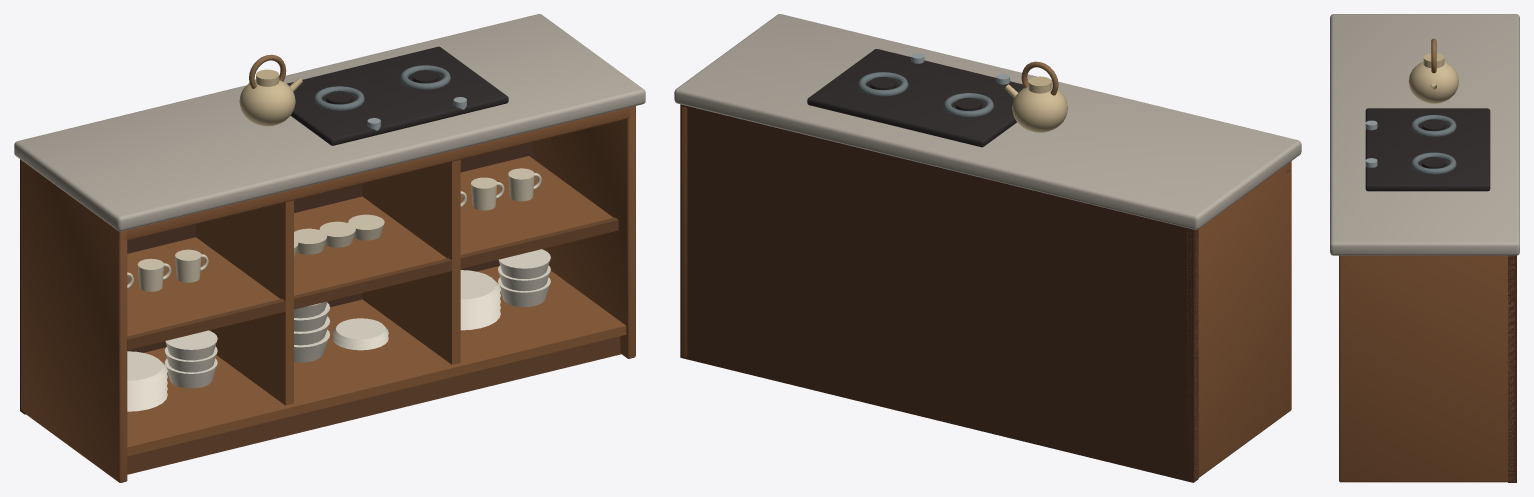
File: counter_stove.glb
3 views of the same model, side by side, from view 1: azimuth 30°, elevation 25°; view 2: azimuth 150°, elevation 25°; view 3: azimuth 270°, elevation 25° (orthographic). The views are drawn at different scales.
Visible parts, largest first — view 1: counter_stove_stone_top, counter_stove_side, counter_stove_bottom, counter_stove_side.001, counter_stove_divider.001, counter_stove_divider, counter_stove_hob, counter_stove_plinth, counter_stove_shelf, counter_stove_shelf.002, counter_stove_shelf.001, counter_stove_top_rail (+22 smaller); view 2: counter_stove_back, counter_stove_stone_top, counter_stove_side, counter_stove_hob, counter_stove_kettle, counter_stove_side.001, counter_stove_burner, counter_stove_burner.001; view 3: counter_stove_side.001, counter_stove_stone_top, counter_stove_hob, counter_stove_back, counter_stove_kettle, counter_stove_burner.001, counter_stove_burner, counter_stove_burner_cap.001, counter_stove_burner_cap, counter_stove_kettle_lid.
Part boxes in pixels (bbox=[...]): counter_stove_stone_top: bbox=[14, 14, 645, 231]; counter_stove_side: bbox=[21, 160, 127, 482]; counter_stove_bottom: bbox=[127, 266, 626, 456]; counter_stove_side.001: bbox=[533, 106, 635, 358]; counter_stove_divider.001: bbox=[362, 159, 460, 364]; counter_stove_divider: bbox=[196, 200, 293, 405]; counter_stove_hob: bbox=[287, 46, 508, 145]; counter_stove_plinth: bbox=[127, 336, 620, 474]; counter_stove_shelf: bbox=[127, 237, 280, 336]; counter_stove_shelf.002: bbox=[460, 156, 613, 254]; counter_stove_shelf.001: bbox=[294, 196, 446, 295]; counter_stove_top_rail: bbox=[118, 106, 635, 241]; counter_stove_back: bbox=[680, 104, 1198, 482]; counter_stove_stone_top: bbox=[674, 14, 1301, 229]; counter_stove_side: bbox=[1186, 161, 1291, 480]; counter_stove_hob: bbox=[807, 49, 1023, 147]; counter_stove_kettle: bbox=[1012, 86, 1067, 132]; counter_stove_side.001: bbox=[682, 106, 687, 357]; counter_stove_burner: bbox=[943, 93, 993, 117]; counter_stove_burner.001: bbox=[858, 72, 908, 96]; counter_stove_side.001: bbox=[1339, 255, 1515, 482]; counter_stove_stone_top: bbox=[1330, 14, 1519, 255]; counter_stove_hob: bbox=[1365, 108, 1490, 191]; counter_stove_back: bbox=[1508, 255, 1516, 482]; counter_stove_kettle: bbox=[1408, 61, 1458, 103]; counter_stove_burner.001: bbox=[1411, 152, 1456, 174]; counter_stove_burner: bbox=[1411, 115, 1456, 136]; counter_stove_burner_cap.001: bbox=[1422, 157, 1445, 168]; counter_stove_burner_cap: bbox=[1422, 119, 1445, 130]; counter_stove_kettle_lid: bbox=[1423, 53, 1444, 67].
Bounding box in the file's own units: 1.84 × 1.13 × 0.64.
